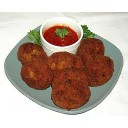cutlet: (49, 50, 87, 82), (55, 79, 93, 109), (86, 53, 117, 87), (22, 62, 53, 88), (21, 43, 47, 68), (81, 36, 106, 62)
